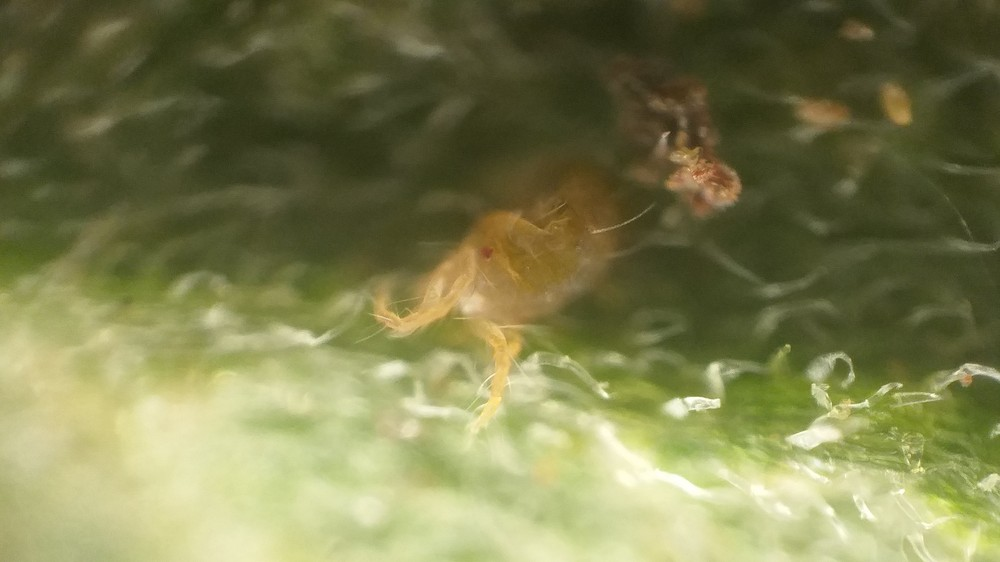Aracnido Rojo: (364, 137, 670, 444)
